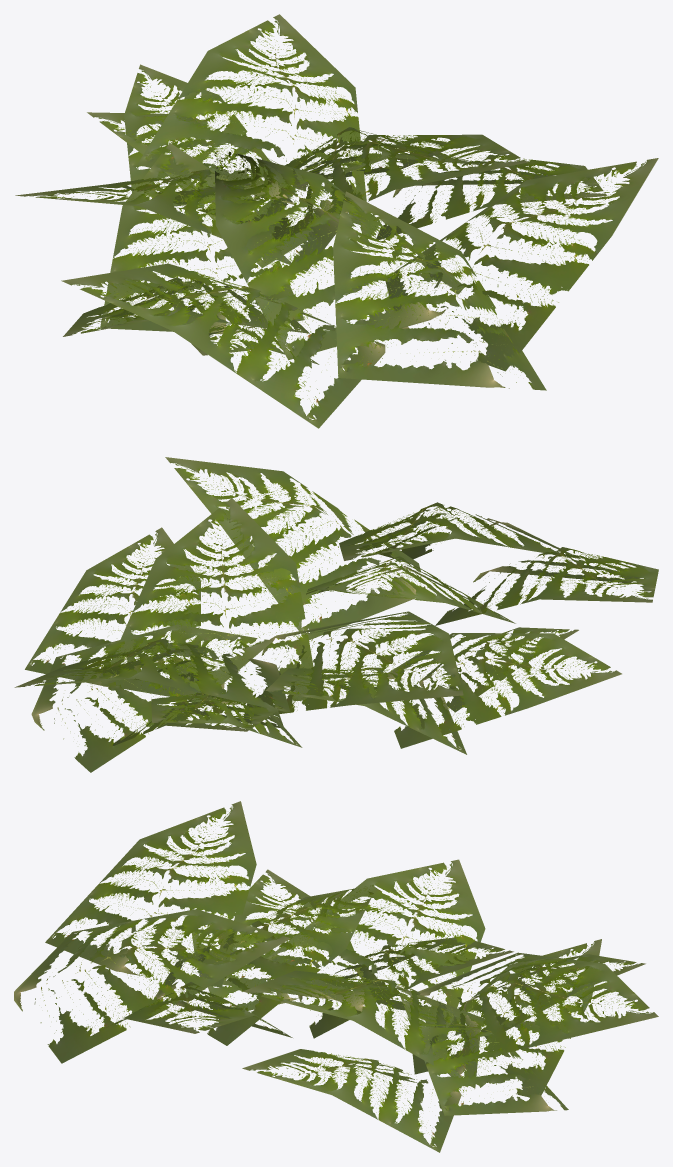
Rendered from fern.obj.
The picture shows the model from 3 angles, top to bottom: view 1: azimuth 30°, elevation 25°; view 2: azimuth 150°, elevation 25°; view 3: azimuth 270°, elevation 25°; orthographic projection. The views are drawn at different scales.
Parts seen in each view (by area): view 1: Plane; view 2: Plane; view 3: Plane.
Part boxes in pixels (bbox=[...]): Plane: bbox=[15, 14, 658, 428]; Plane: bbox=[14, 457, 658, 772]; Plane: bbox=[14, 801, 658, 1152].
Size of the model in its own units: 3.16 by 0.8814 by 3.58.
